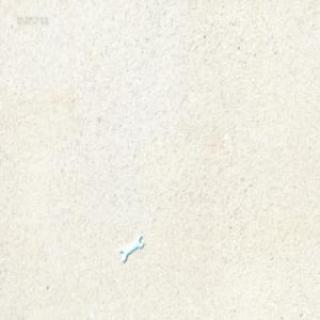Wrenchtrack_idkeyframe: (119, 233, 143, 263)
